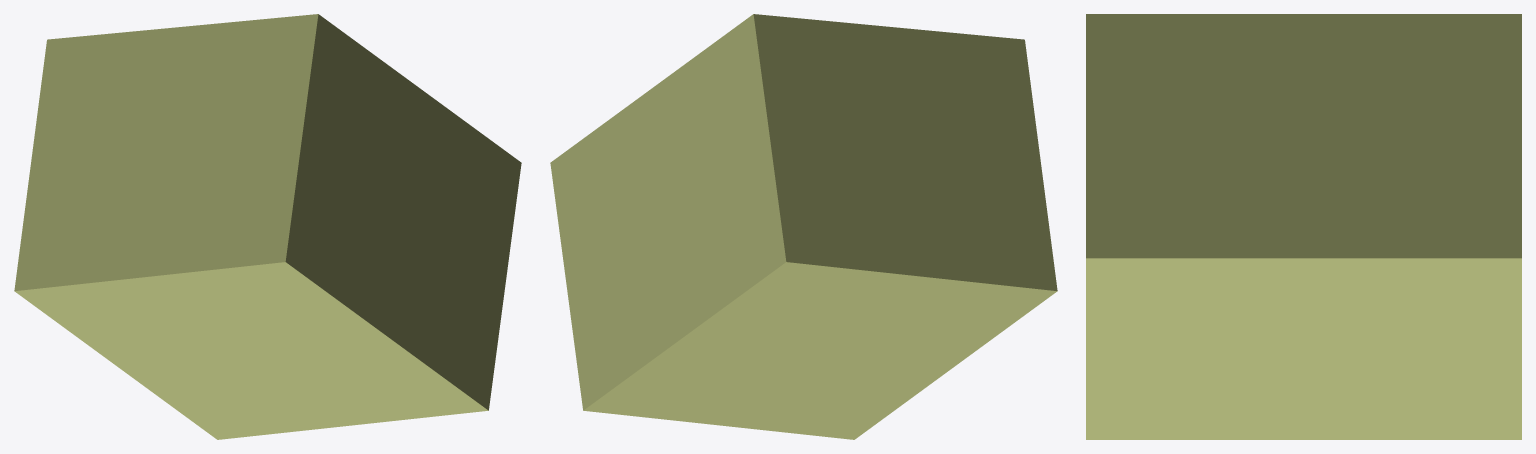
3 renders of one model, left to right at view 1: azimuth 30°, elevation 25°; view 2: azimuth 150°, elevation 25°; view 3: azimuth 270°, elevation 25°, orthographic. The views are drawn at different scales.
Parts seen in each view (by area): view 1: 0_1_0_2_1_3_0_2_0_3_3; view 2: 0_1_0_2_1_3_0_2_0_3_3; view 3: 0_1_0_2_1_3_0_2_0_3_3.
Boxes of the visible parts, left/top/right/bottom form: 0_1_0_2_1_3_0_2_0_3_3: left=14, top=14, right=521, bottom=439; 0_1_0_2_1_3_0_2_0_3_3: left=550, top=14, right=1057, bottom=439; 0_1_0_2_1_3_0_2_0_3_3: left=1086, top=14, right=1521, bottom=439.
Size of the model in its own units: 7.78 by 6.86 by 9.
